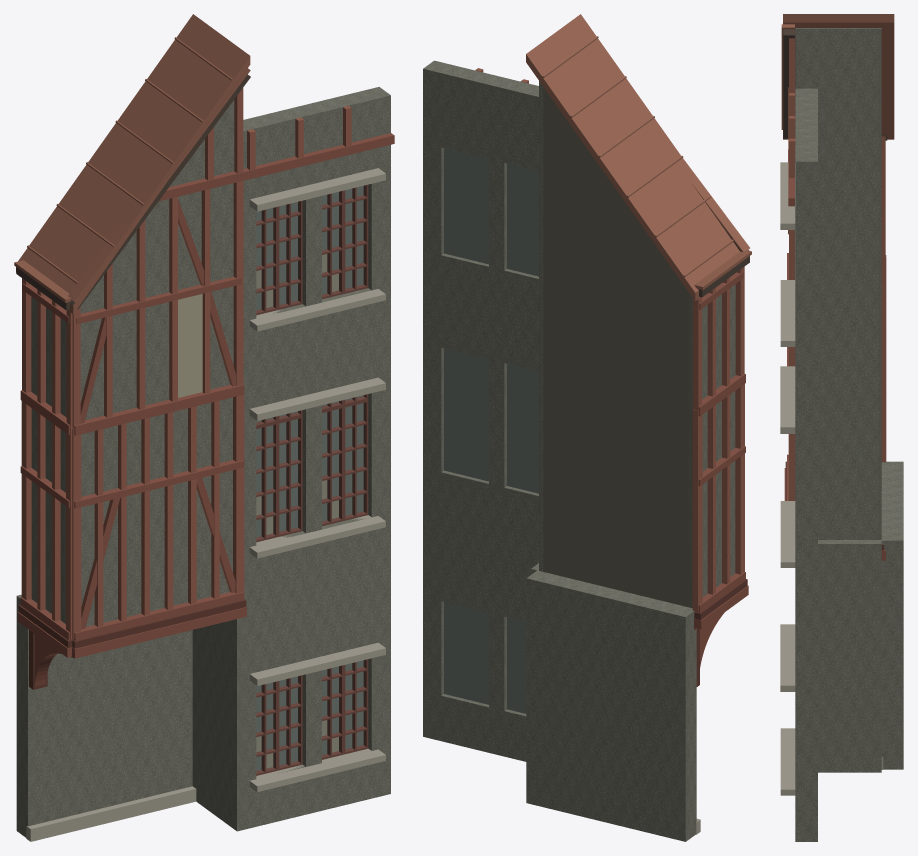
File: xuhui-anfu-284-timber-jetty-lod.glb
The picture shows the model from 3 angles, left to right: view 1: azimuth 30°, elevation 25°; view 2: azimuth 150°, elevation 25°; view 3: azimuth 270°, elevation 25°; orthographic projection. The views are drawn at different scales.
Parts seen in each view (by area): view 1: 安福路284号花园住宅露木构悬挑窗楼; view 2: 安福路284号花园住宅露木构悬挑窗楼; view 3: 安福路284号花园住宅露木构悬挑窗楼.
Part boxes in pixels (x1,y1,x2,y2): 安福路284号花园住宅露木构悬挑窗楼: (14, 14, 394, 841); 安福路284号花园住宅露木构悬挑窗楼: (423, 14, 751, 841); 安福路284号花园住宅露木构悬挑窗楼: (780, 14, 903, 841).
Size of the model in its own units: 4.7 by 10.63 by 1.57.
Materials: 12 (1 with a texture image).
